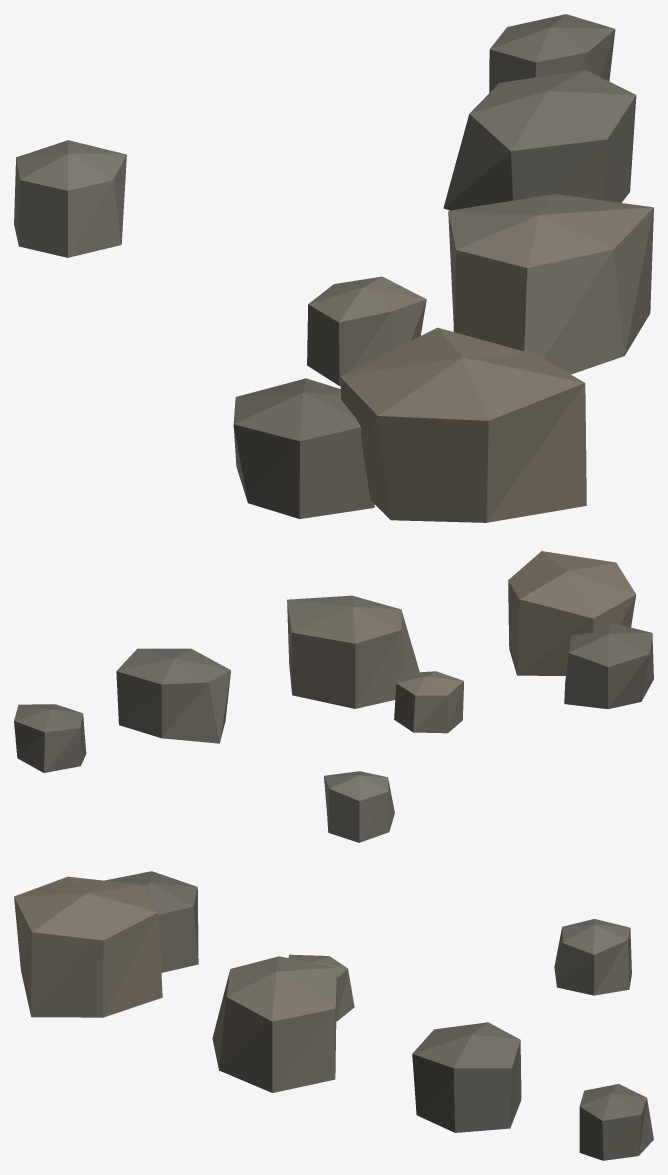
File: pebbles.glb
3 views of the same model, one above another, from view 1: azimuth 30°, elevation 25°; view 2: azimuth 150°, elevation 25°; view 3: azimuth 270°, elevation 25° (orthographic). The views are drawn at different scales.
Parts seen in each view (by area): view 1: pebbles; view 2: pebbles; view 3: pebbles.
Part boxes in pixels (<box>): pebbles: <box>14,14,653,522</box>; pebbles: <box>14,551,653,842</box>; pebbles: <box>14,871,653,1160</box>.
Size of the model in its own units: 0.383 by 0.0762 by 0.4347.
